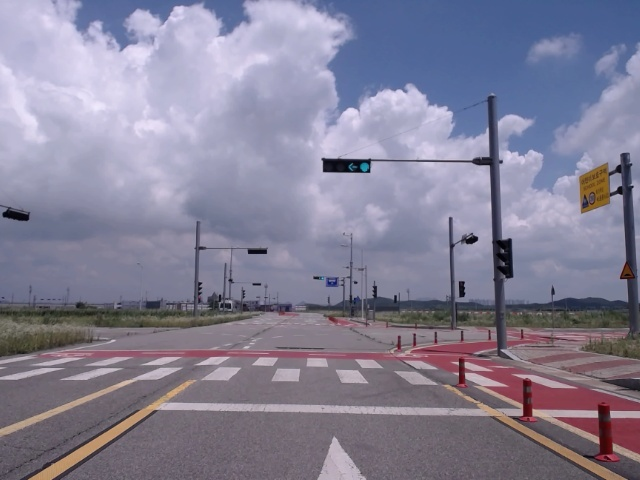all_green_4: (320, 156, 370, 173)
